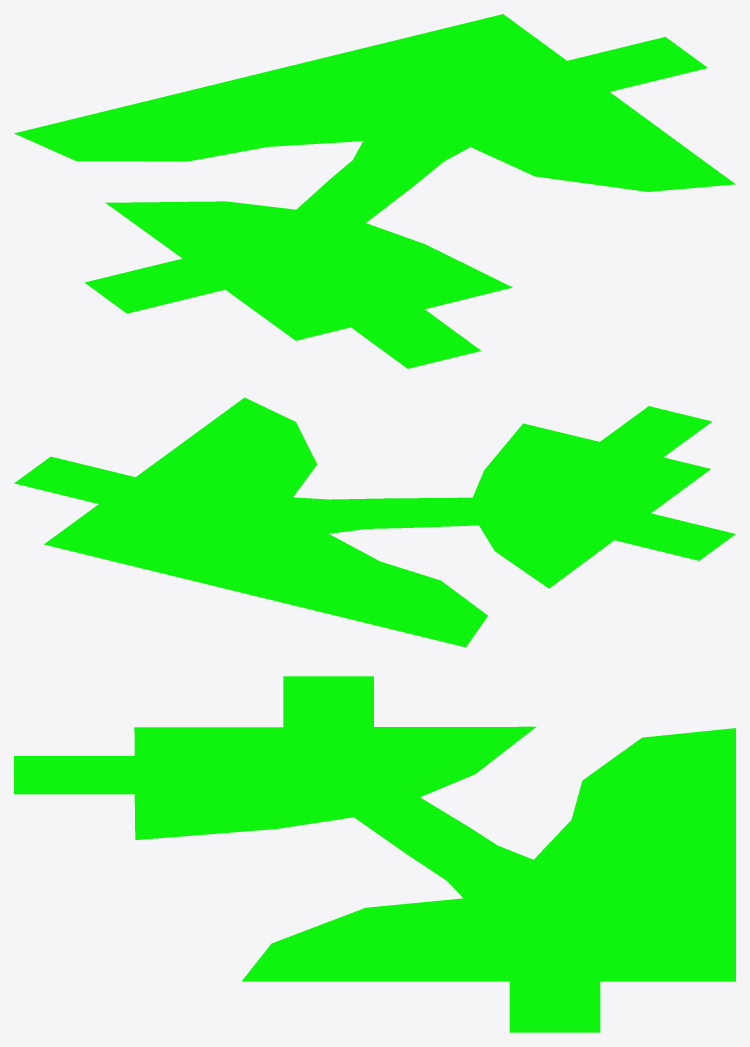
Rendered from s04a_tc3-floor.glb.
3 views of the same model, one above another, from view 1: azimuth 30°, elevation 25°; view 2: azimuth 150°, elevation 25°; view 3: azimuth 270°, elevation 25° (orthographic). The views are drawn at different scales.
Parts seen in each view (by area): view 1: collision_floor-colonly; view 2: collision_floor-colonly; view 3: collision_floor-colonly.
Boxes of the visible parts, left/top/right/bottom form: collision_floor-colonly: left=14, top=14, right=735, bottom=368; collision_floor-colonly: left=14, top=397, right=735, bottom=647; collision_floor-colonly: left=14, top=676, right=735, bottom=1032.
Bounding box in the file's own units: 55.92 × 0.00781 × 47.86.
